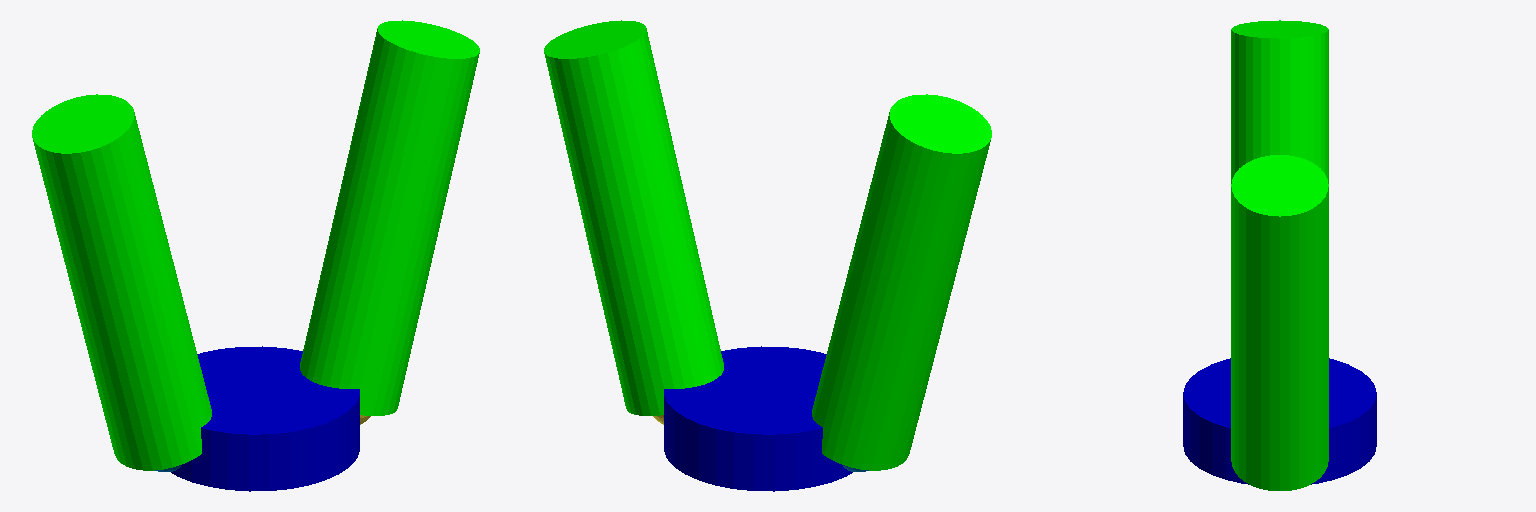
URDF robot description (gripper_2f_1j):
<?xml version='1.0' encoding='UTF-8'?>
<robot name="gripper_2f_1j">
  <link name="palm">
    <inertial>
      <origin xyz="0.0 0.0 0.0" rpy="0.0 -0.0 0.0"/>
      <mass value="1.0"/>
      <inertia ixx="1.0" ixy="0.0" ixz="0.0" iyy="1.0" iyz="0.0" izz="1.0"/>
    </inertial>
    <visual>
      <geometry>
        <cylinder radius="0.05" length="0.03"/>
      </geometry>
      <material name="blue"/>
      <origin xyz="0.0 0.0 0.0" rpy="0.0 -0.0 0.0"/>
    </visual>
    <collision>
      <geometry>
        <cylinder radius="0.05" length="0.03"/>
      </geometry>
      <origin xyz="0.0 0.0 0.0" rpy="0.0 0.0 0.0"/>
    </collision>
  </link>
  <link name="f11">
    <inertial>
      <origin xyz="0.0 0.0 0.0" rpy="0.0 -0.0 0.0"/>
      <mass value="1.0"/>
      <inertia ixx="1.0" ixy="0.0" ixz="0.0" iyy="1.0" iyz="0.0" izz="1.0"/>
    </inertial>
    <visual>
      <geometry>
        <cylinder radius="0.02517762989046948" length="0.18357832559894022"/>
      </geometry>
      <material name="green"/>
      <origin xyz="0.0 0.0 0.09178916279947011" rpy="0.0 -0.0 0.0"/>
    </visual>
    <collision>
      <geometry>
        <cylinder radius="0.02517762989046948" length="0.18357832559894022"/>
      </geometry>
      <origin xyz="0.0 0.0 0.05" rpy="0.0 0.0 0.0"/>
    </collision>
  </link>
  <link name="f21">
    <inertial>
      <origin xyz="0.0 0.0 0.0" rpy="0.0 -0.0 0.0"/>
      <mass value="1.0"/>
      <inertia ixx="1.0" ixy="0.0" ixz="0.0" iyy="1.0" iyz="0.0" izz="1.0"/>
    </inertial>
    <visual>
      <geometry>
        <cylinder radius="0.02517762989046948" length="0.18357832559894022"/>
      </geometry>
      <material name="green"/>
      <origin xyz="0.0 0.0 0.09178916279947011" rpy="0.0 -0.0 0.0"/>
    </visual>
    <collision>
      <geometry>
        <cylinder radius="0.02517762989046948" length="0.18357832559894022"/>
      </geometry>
      <origin xyz="0.0 0.0 0.05" rpy="0.0 0.0 0.0"/>
    </collision>
  </link>
  <link name="f11_base">
    <inertial>
      <origin xyz="0.0 0.0 0.0" rpy="0.0 -0.0 0.0"/>
      <mass value="1.0"/>
      <inertia ixx="1.0" ixy="0.0" ixz="0.0" iyy="1.0" iyz="0.0" izz="1.0"/>
    </inertial>
    <visual>
      <geometry>
        <sphere radius="0.015"/>
      </geometry>
      <origin xyz="0.0 0.0 0.0" rpy="0.0 -0.0 0.0"/>
    </visual>
  </link>
  <link name="f21_base">
    <inertial>
      <origin xyz="0.0 0.0 0.0" rpy="0.0 -0.0 0.0"/>
      <mass value="1.0"/>
      <inertia ixx="1.0" ixy="0.0" ixz="0.0" iyy="1.0" iyz="0.0" izz="1.0"/>
    </inertial>
    <visual>
      <geometry>
        <sphere radius="0.015"/>
      </geometry>
      <origin xyz="0.0 0.0 0.0" rpy="0.0 -0.0 0.0"/>
    </visual>
  </link>
  <joint name="f11_joint" type="revolute">
    <dynamics damping="100.0" friction="1.0"/>
    <limit effort="30.0" velocity="2.0" lower="-0.6" upper="0.25"/>
    <parent link="f11_base"/>
    <child link="f11"/>
    <axis xyz="0. 1. 0."/>
    <origin xyz="0.0 0.0 0.0" rpy="0.0 0.25 0.0"/>
  </joint>
  <joint name="f21_joint" type="revolute">
    <dynamics damping="100.0" friction="1.0"/>
    <limit effort="30.0" velocity="2.0" lower="-0.6" upper="0.25"/>
    <parent link="f21_base"/>
    <child link="f21"/>
    <axis xyz=" 0. -1.  0."/>
    <origin xyz="0.0 0.0 0.0" rpy="0.0 -0.25 0.0"/>
  </joint>
  <joint name="f11_base_joint" type="fixed">
    <parent link="palm"/>
    <child link="f11_base"/>
    <axis xyz="1. 0. 0."/>
    <origin xyz="0.05 0.0 0.0" rpy="0.0 0.0 0.0"/>
  </joint>
  <joint name="f21_base_joint" type="fixed">
    <parent link="palm"/>
    <child link="f21_base"/>
    <axis xyz="1. 0. 0."/>
    <origin xyz="-0.05 -0.0 0.0" rpy="0.0 0.0 0.0"/>
  </joint>
  <material name="blue">
    <color rgba="0.  0.  0.8 1. "/>
  </material>
  <material name="green">
    <color rgba="0. 1. 0. 1."/>
  </material>
</robot>

--- Render facts (derived) ---
Views: 3 orthographic renders of the robot side by side, from view 1: azimuth 30°, elevation 25°; view 2: azimuth 150°, elevation 25°; view 3: azimuth 270°, elevation 25°.
Model gripper_2f_1j with 5 links and 4 joints (2 revolute, 2 fixed), rooted at palm, posed all joints at 0.
Visible links, largest first — view 1: f11, f21, palm; view 2: f11, f21, palm; view 3: f11, f21, palm.
Boxes of the visible links, x1,y1,x2,y2 form: f11: (300,20,479,415); f21: (32,94,211,470); palm: (171,346,359,491); f11: (544,20,723,415); f21: (812,94,991,470); palm: (664,346,852,491); f11: (1231,155,1328,490); f21: (1231,20,1328,183); palm: (1183,358,1376,484).
Size in the robot's own frame: 0.2396 by 0.1 by 0.1991 metres.
Geometry: primitives only (box / cylinder / sphere), no mesh files.